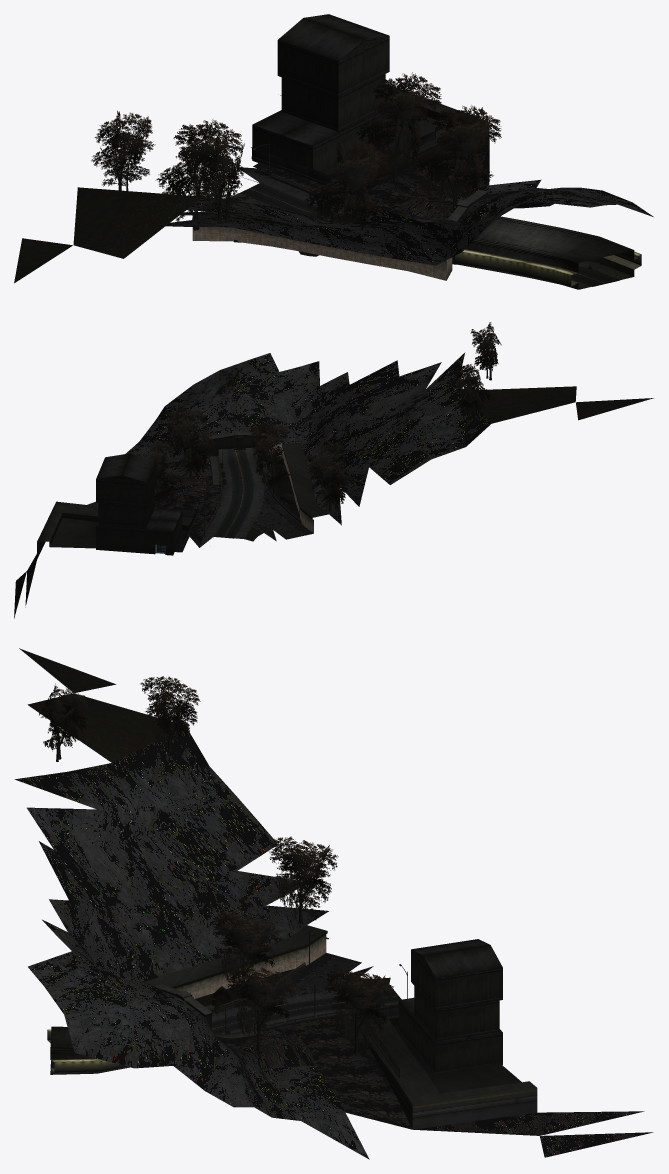
File: cell_16_-7.gltf
3 views of the same model, one above another, from view 1: azimuth 30°, elevation 25°; view 2: azimuth 150°, elevation 25°; view 3: azimuth 270°, elevation 25° (orthographic). The views are drawn at different scales.
Parts seen in each view (by area): view 1: cell_16_-7; view 2: cell_16_-7; view 3: cell_16_-7.
Boxes of the visible parts, x1,y1,x2,y2 form: cell_16_-7: [14, 14, 653, 289]; cell_16_-7: [14, 322, 653, 618]; cell_16_-7: [14, 648, 653, 1159].
Size of the model in its own units: 210 by 86.6 by 179.
Materials: 39 (39 with a texture image).
